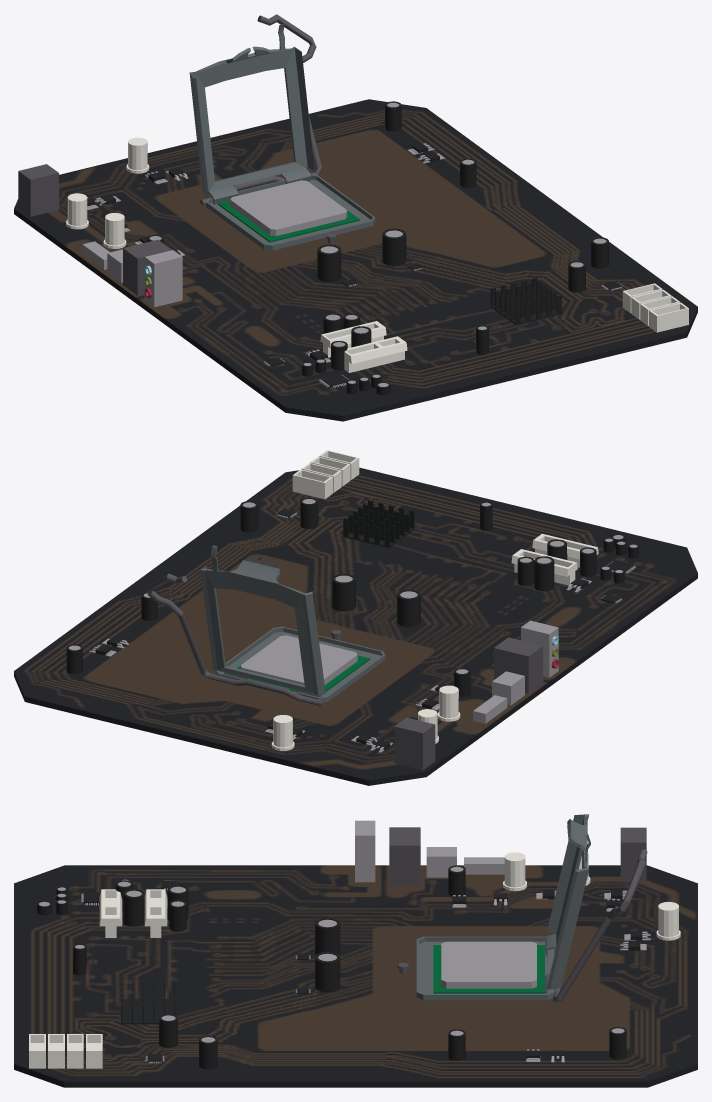
File: Computing circuit.fbx
3 renders of one model, top to bottom at view 1: azimuth 30°, elevation 25°; view 2: azimuth 150°, elevation 25°; view 3: azimuth 270°, elevation 25°, orthographic. The views are drawn at different scales.
Parts seen in each view (by area): view 1: computing_circuit; view 2: computing_circuit; view 3: computing_circuit.
Boxes of the visible parts, x1,y1,x2,y2 form: computing_circuit: [14, 14, 697, 421]; computing_circuit: [14, 450, 697, 785]; computing_circuit: [14, 814, 697, 1087].
Size of the model in its own units: 1.37 by 0.4854 by 1.84.
